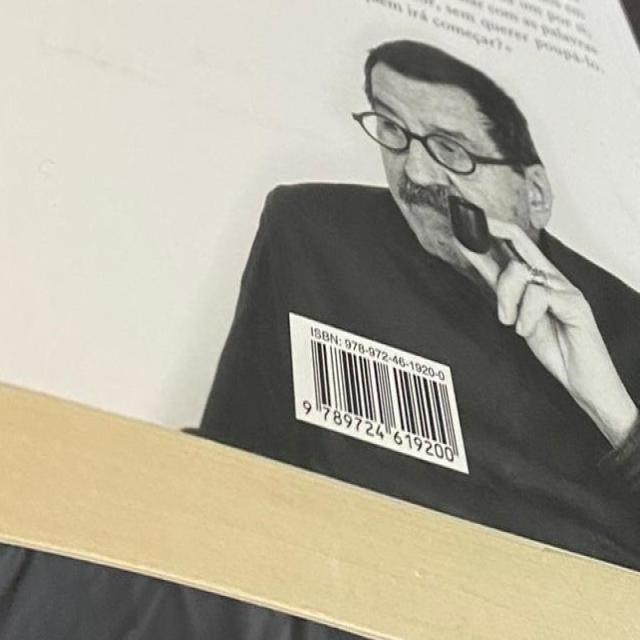Barcode: (308, 335, 464, 472)
